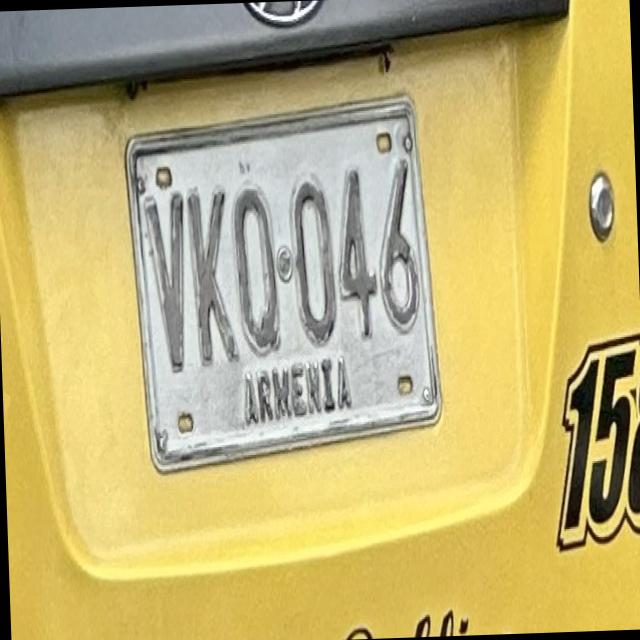number plate: (125, 96, 438, 467)
